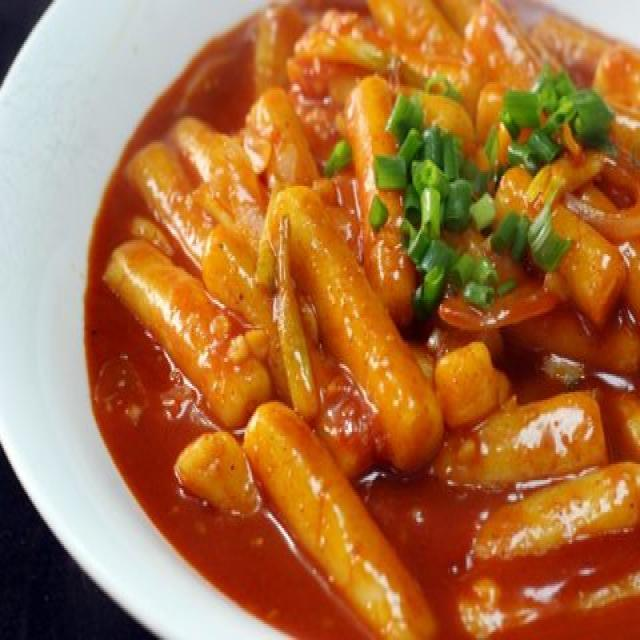banh gao: (246, 407, 431, 639), (272, 92, 364, 397), (116, 247, 253, 425), (144, 130, 262, 304), (471, 468, 635, 563), (313, 0, 550, 55), (439, 403, 599, 478), (180, 447, 257, 518), (436, 343, 496, 402)
banh gao cay tokbokki: (75, 0, 640, 640)
cac loai rau cu: (366, 72, 615, 304)
